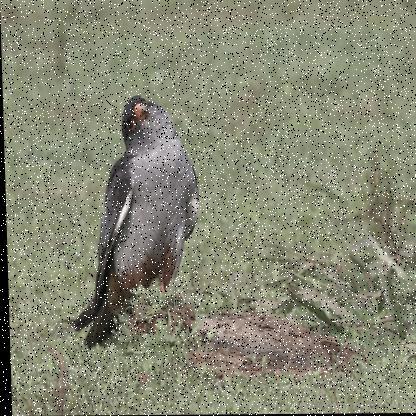Burung: (64, 95, 204, 345)
